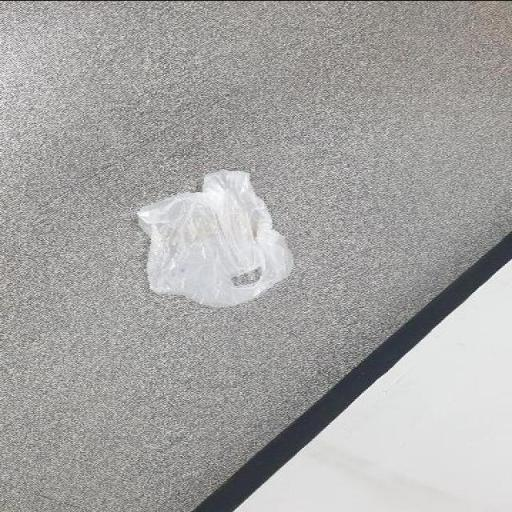plastic-bag: (127, 170, 292, 310)
